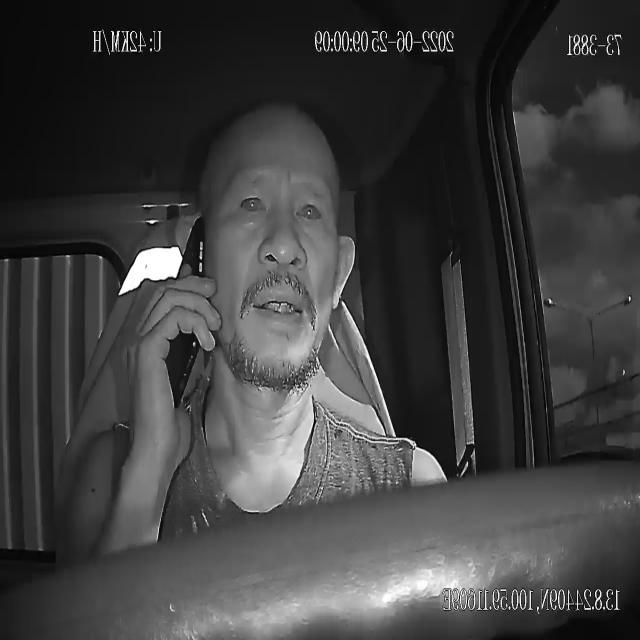phone: (161, 214, 207, 412)
